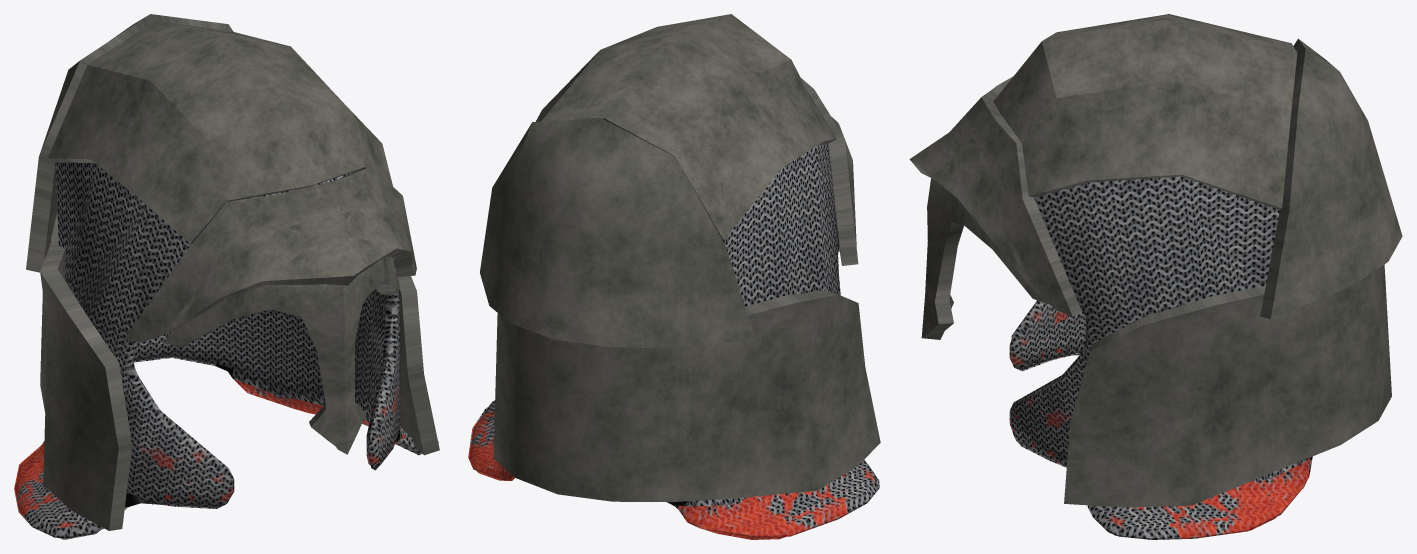
File: full_helm.glb
3 renders of one model, left to right at view 1: azimuth 30°, elevation 25°; view 2: azimuth 150°, elevation 25°; view 3: azimuth 270°, elevation 25°, orthographic. The views are drawn at different scales.
Parts seen in each view (by area): view 1: full_helm; view 2: full_helm; view 3: full_helm.
Part boxes in pixels (x1=…): full_helm: x1=14, y1=14, x2=439, y2=539; full_helm: x1=468, y1=14, x2=880, y2=539; full_helm: x1=909, y1=14, x2=1402, y2=539.
Bounding box in the file's own units: 0.2183 × 0.2362 × 0.2423.
Materials: 1 (1 with a texture image).
